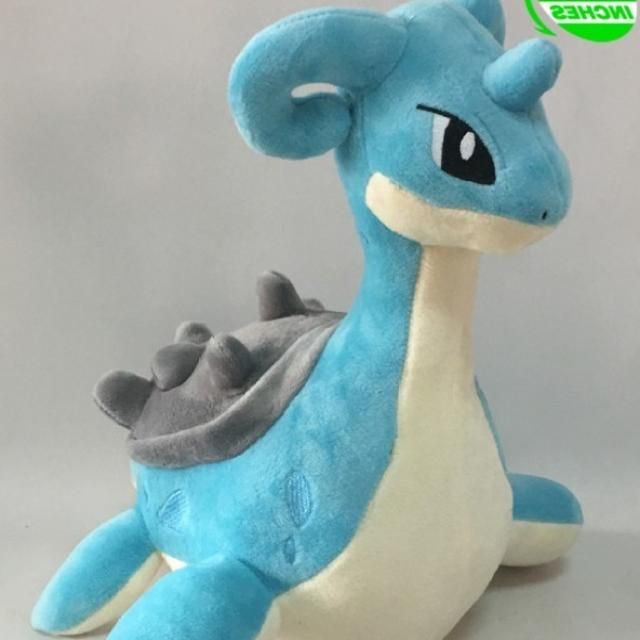Lapras: (94, 4, 574, 640)
